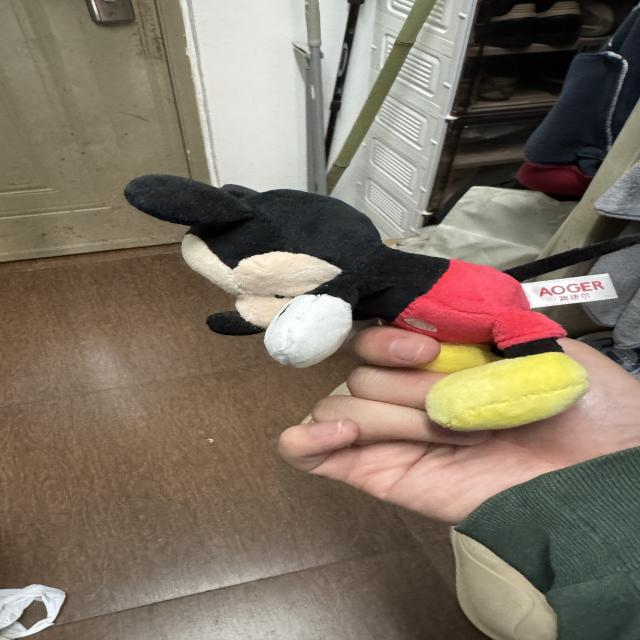mickey: (125, 175, 639, 429)
